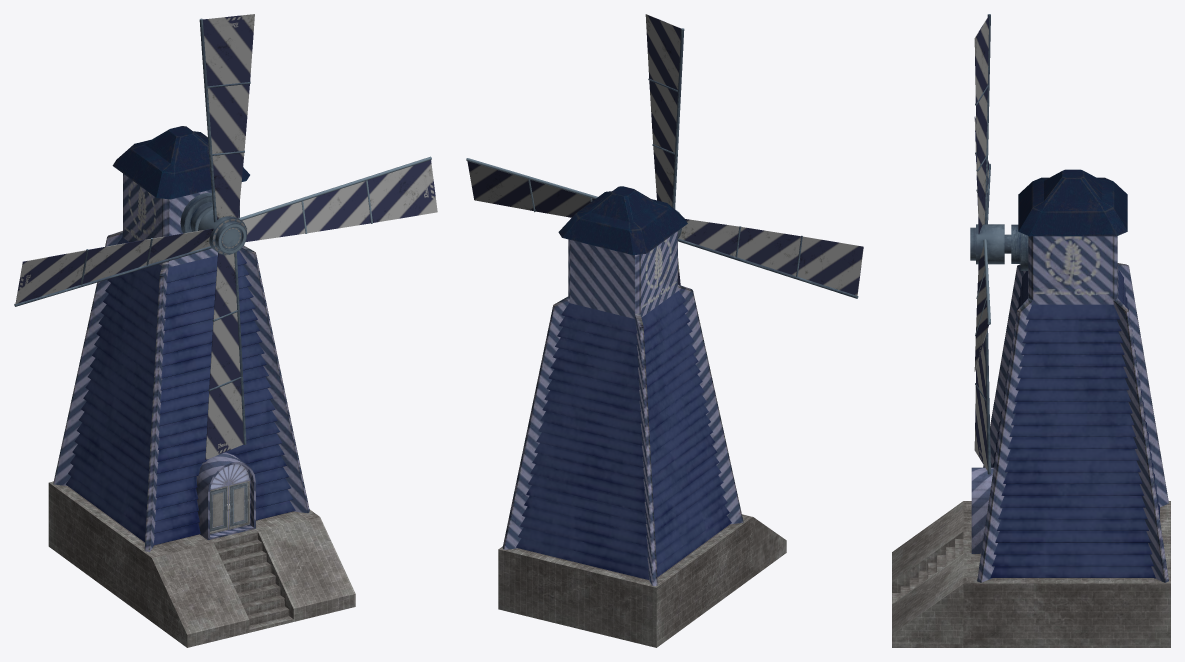
Rendered from windmill_777d2796.glb.
3 renders of one model, left to right at view 1: azimuth 30°, elevation 25°; view 2: azimuth 150°, elevation 25°; view 3: azimuth 270°, elevation 25°, orthographic. The views are drawn at different scales.
Parts seen in each view (by area): view 1: Base_low, Slat_f_low, Body_low, Slat_r_low, Blade_3_cloth_low, Blade_2_cloth_low, Blade_4_cloth_low, Blade_1_cloth_low, Door_low, Stairs_low, Hub_Tip_low, Blade_3_ribs_low (+4 smaller); view 2: Slat_b_low, Body_low, Base_low, Slat_r_low, Blade_4_cloth_low, Blade_3_cloth_low, Blade_2_cloth_low, Blade_4_ribs_low, Blade_3_ribs_low, Blade_2_ribs_low; view 3: Slat_l_low, Body_low, Base_low, Blade_3_cloth_low, Door_low, Hub_Tip_low, Blade_1_cloth_low, Blade_2_cloth_low, Stairs_low, Hub_Base_low, Blade_1_ribs_low, Blade_3_ribs_low (+2 smaller).
Part boxes in pixels (<box>): Base_low: <box>48,481,355,647</box>; Slat_f_low: <box>153,251,295,545</box>; Body_low: <box>53,126,309,551</box>; Slat_r_low: <box>66,237,161,542</box>; Blade_3_cloth_low: <box>203,14,254,219</box>; Blade_2_cloth_low: <box>242,160,437,241</box>; Blade_4_cloth_low: <box>15,228,213,303</box>; Blade_1_cloth_low: <box>205,253,243,459</box>; Door_low: <box>196,452,255,540</box>; Stairs_low: <box>217,540,289,625</box>; Hub_Tip_low: <box>198,209,246,255</box>; Blade_3_ribs_low: <box>199,18,250,222</box>; Slat_b_low: <box>516,303,649,579</box>; Body_low: <box>502,186,743,585</box>; Base_low: <box>498,514,786,647</box>; Slat_r_low: <box>641,290,731,577</box>; Blade_4_cloth_low: <box>678,219,863,295</box>; Blade_3_cloth_low: <box>645,14,681,206</box>; Blade_2_cloth_low: <box>467,161,594,217</box>; Blade_4_ribs_low: <box>678,226,858,298</box>; Blade_3_ribs_low: <box>648,28,684,209</box>; Blade_2_ribs_low: <box>466,158,597,212</box>; Slat_l_low: <box>990,304,1155,577</box>; Body_low: <box>977,169,1168,582</box>; Base_low: <box>892,501,1170,647</box>; Blade_3_cloth_low: <box>974,16,989,233</box>; Door_low: <box>971,467,993,553</box>; Hub_Tip_low: <box>970,224,1011,264</box>; Blade_1_cloth_low: <box>974,264,987,470</box>; Blade_2_cloth_low: <box>974,247,988,371</box>; Stairs_low: <box>900,539,963,597</box>; Hub_Base_low: <box>1011,224,1028,270</box>; Blade_1_ribs_low: <box>975,329,990,474</box>; Blade_3_ribs_low: <box>975,14,990,224</box>.
Bounding box in the file's own units: 1.91 × 2.53 × 1.1.
2 materials, 2 textured.
